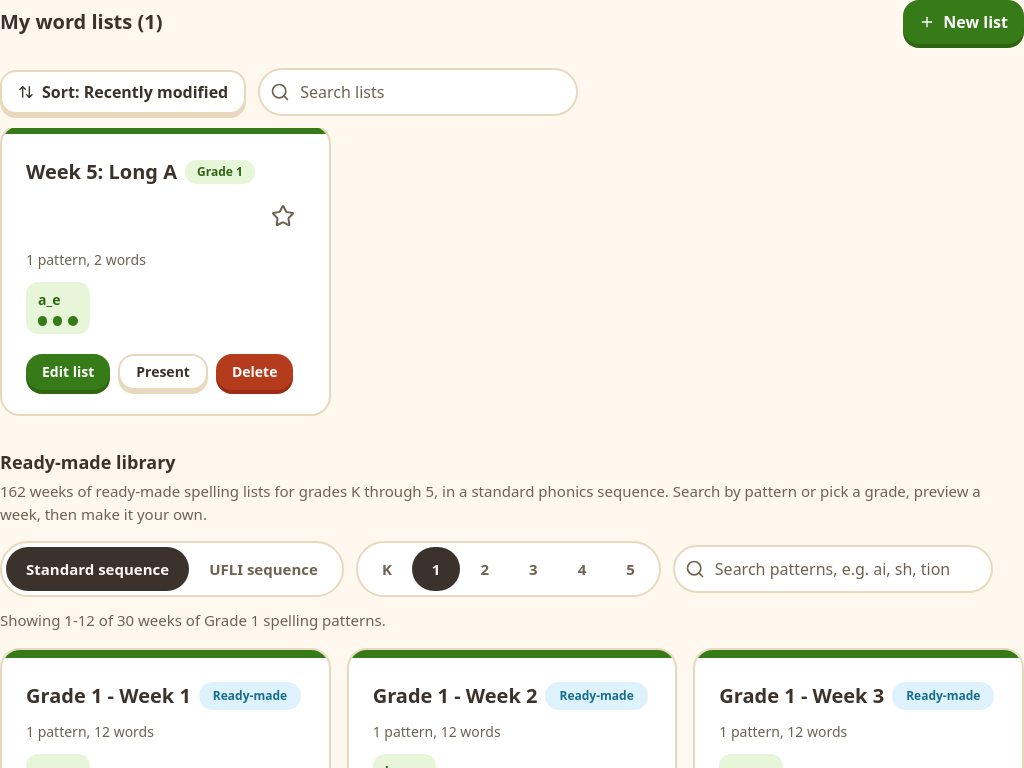
Scenario: PatternListsManager › closes the list delete dialog with Escape
This screenshot has width=1024, height=768.
Check: the heading "My word lists (1)" is shown, box [0,8,162,36]
Click the button "Delete".
click(255, 372)  # box [216,354,293,390]
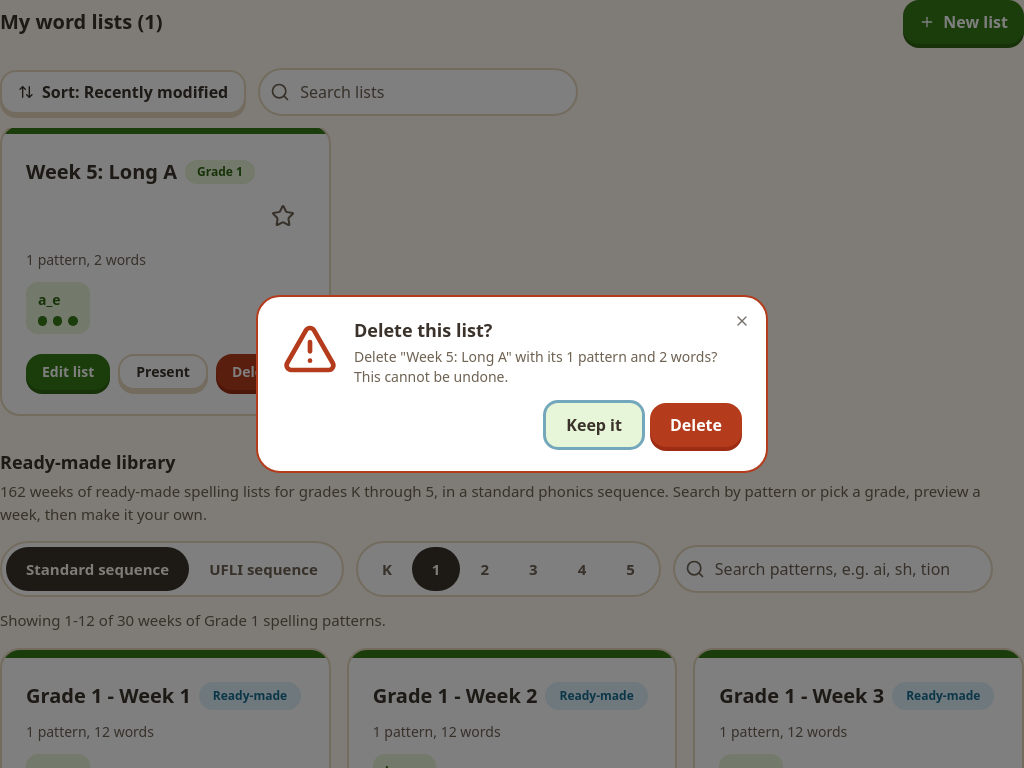
Check: the heading "Delete this list?" is shown, box [354,318,492,342]
Press Escape
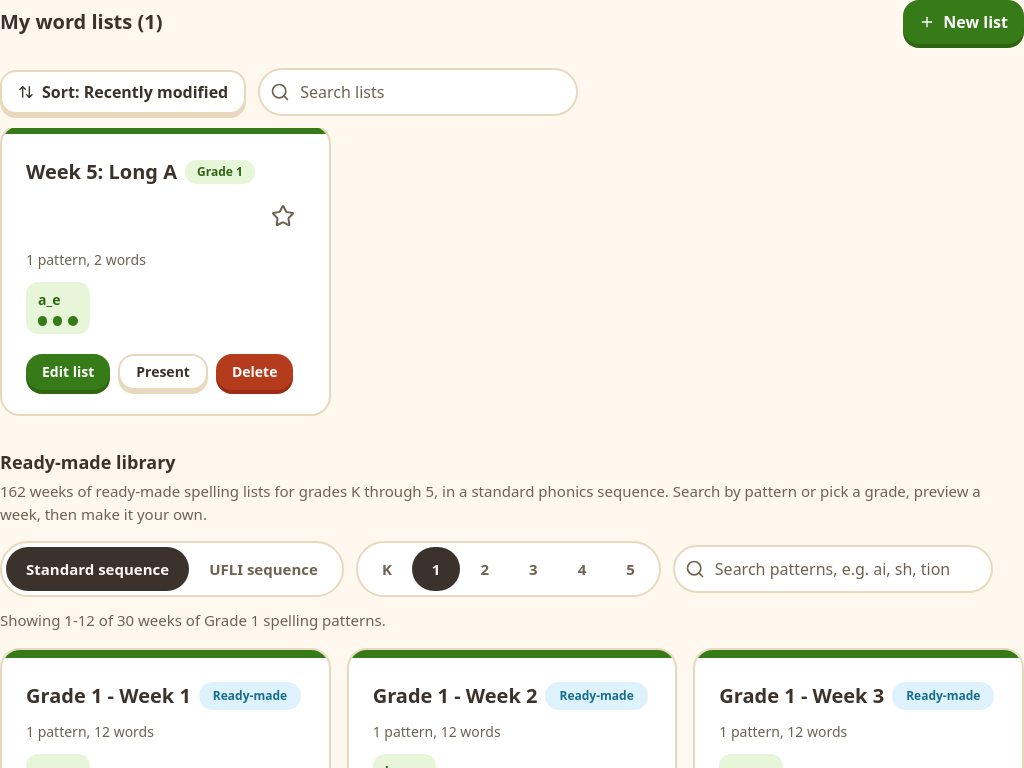
Check: the heading "Delete this list?" is gone
